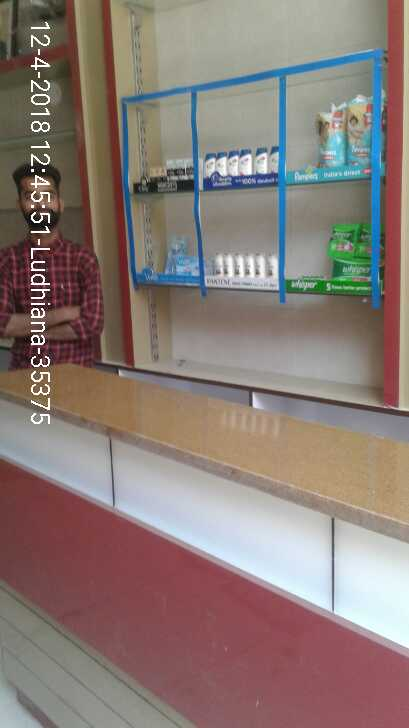venus: (177, 255, 200, 274), (171, 237, 187, 253)
